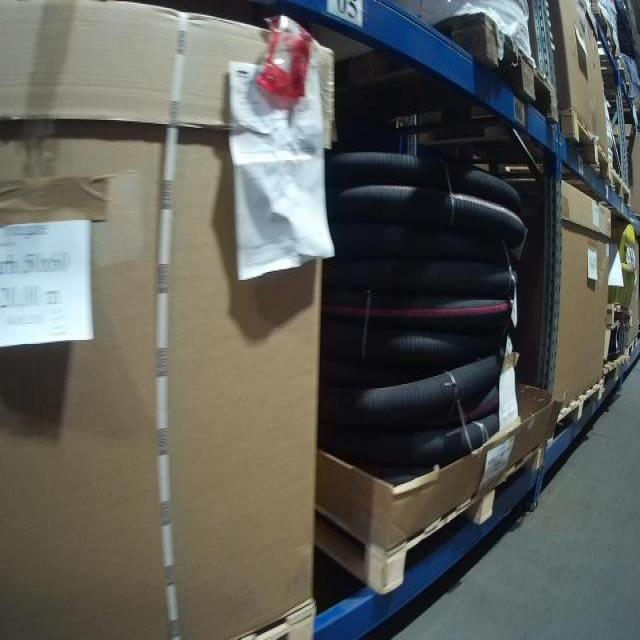pallet: (317, 434, 552, 594), (431, 13, 559, 121), (559, 114, 617, 188), (546, 374, 605, 440), (232, 609, 314, 638), (599, 350, 633, 388), (614, 162, 638, 210), (604, 301, 638, 328)
